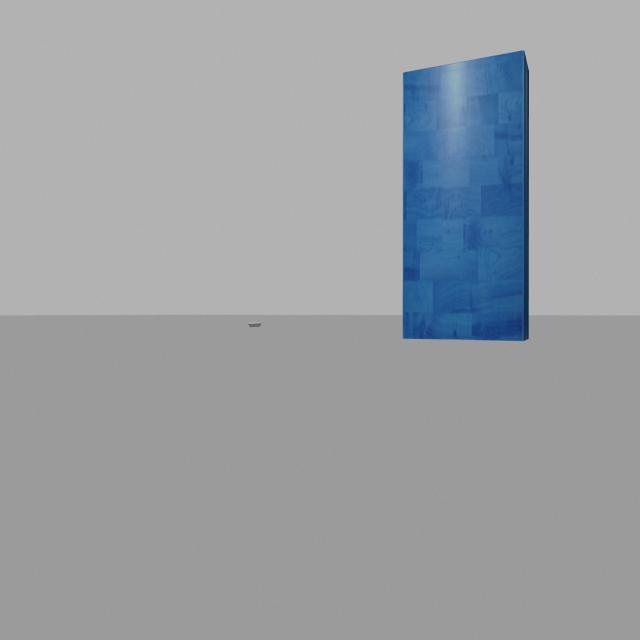bowl: (247, 315, 264, 334)
shelf: (394, 31, 540, 350)
